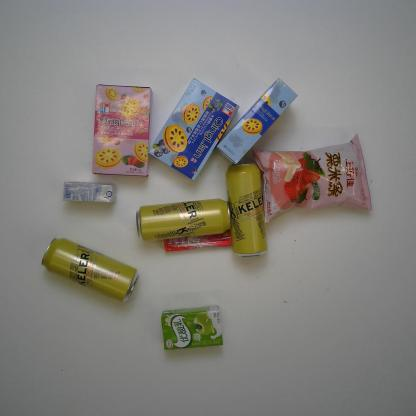Alcohol: (40, 236, 140, 304), (136, 197, 233, 243), (225, 161, 268, 259)
Candy: (162, 229, 232, 253)
Dessert: (148, 78, 240, 182), (216, 78, 298, 165), (91, 83, 152, 178)
Milk: (160, 303, 224, 351), (61, 180, 117, 204)
Puffed Food: (250, 132, 373, 224)
